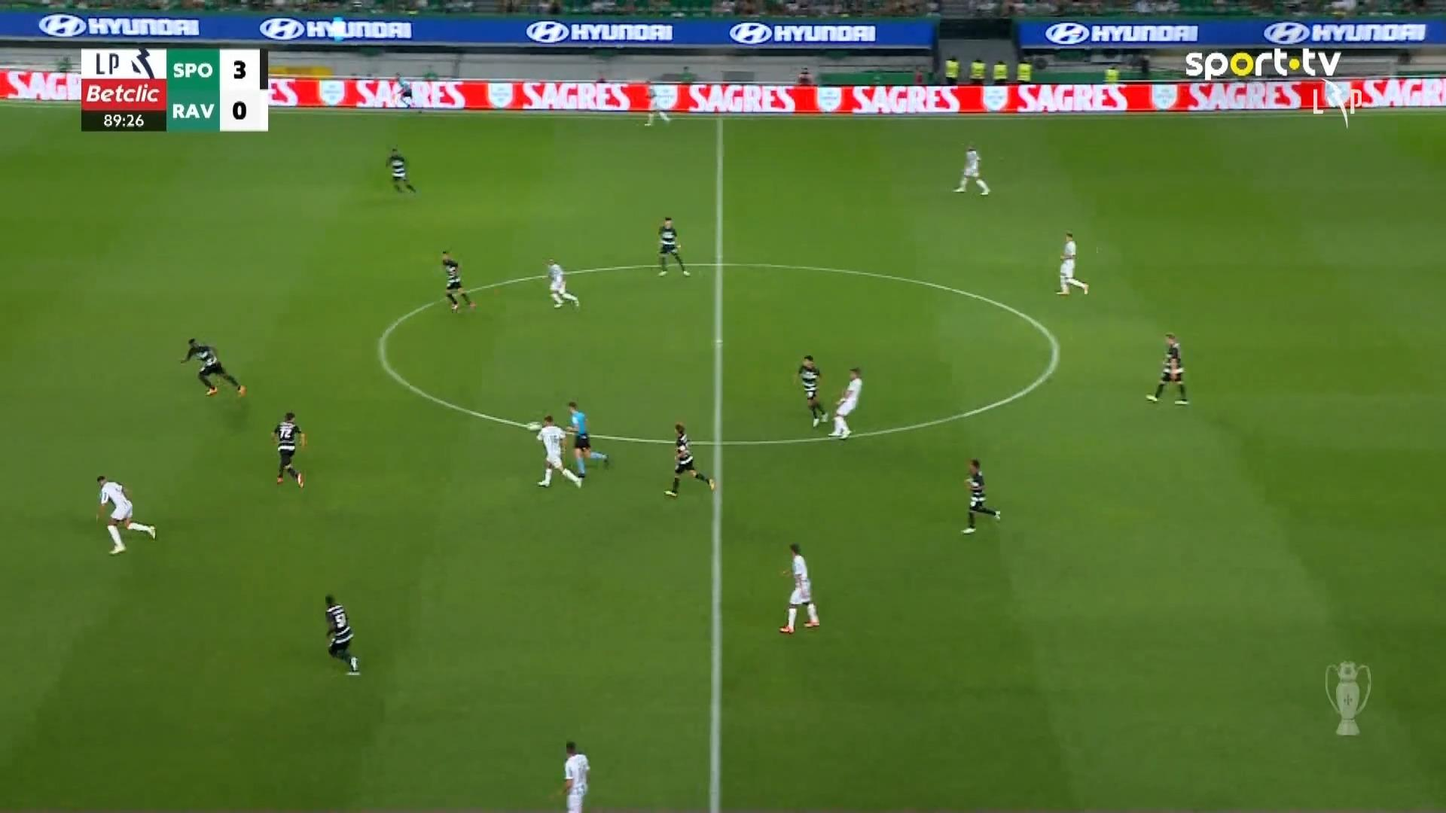ball: (526, 421, 541, 431)
player: (95, 474, 157, 555), (179, 336, 246, 398), (664, 422, 715, 498), (778, 542, 819, 633), (535, 414, 581, 489), (1145, 331, 1189, 404), (960, 458, 1001, 534), (323, 593, 360, 675), (271, 410, 307, 488), (827, 366, 862, 439), (796, 354, 828, 428), (1054, 231, 1088, 295), (441, 249, 475, 312), (560, 740, 590, 811), (656, 216, 690, 276), (952, 145, 990, 196), (545, 258, 580, 309), (385, 146, 416, 194), (642, 78, 671, 126)
referee: (565, 400, 609, 478)
